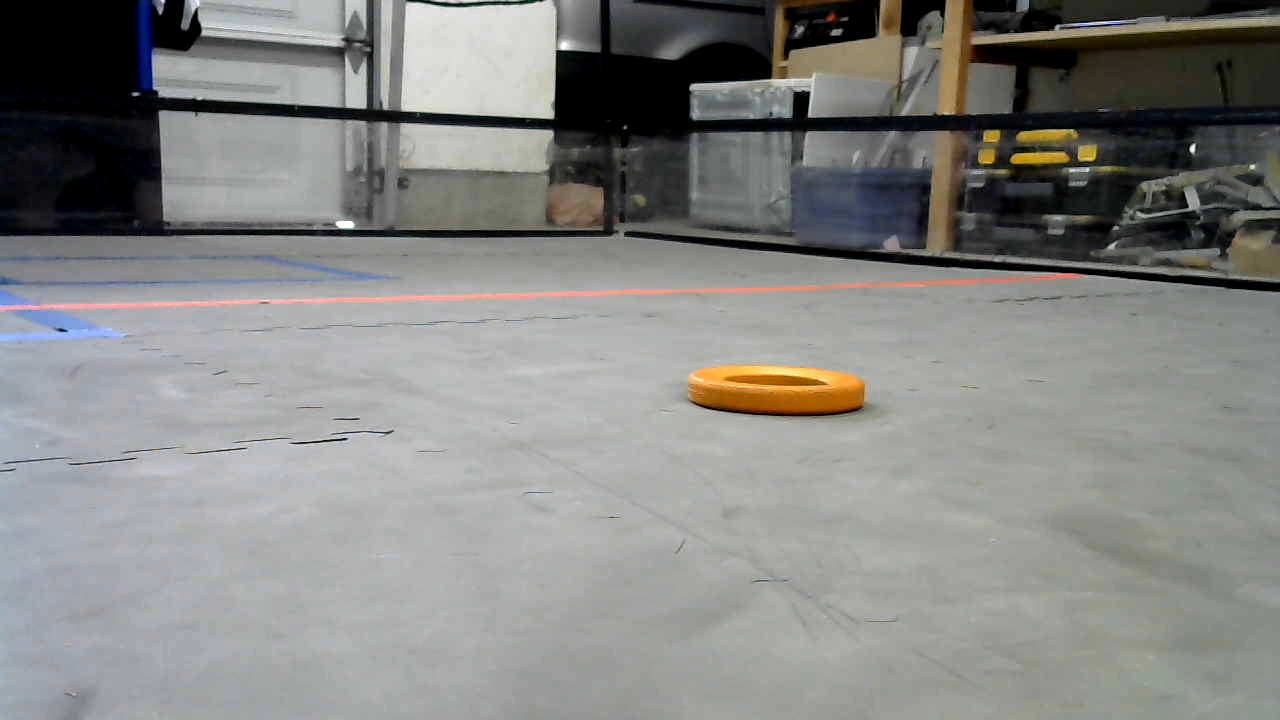OneStack: (688, 365, 864, 419)
